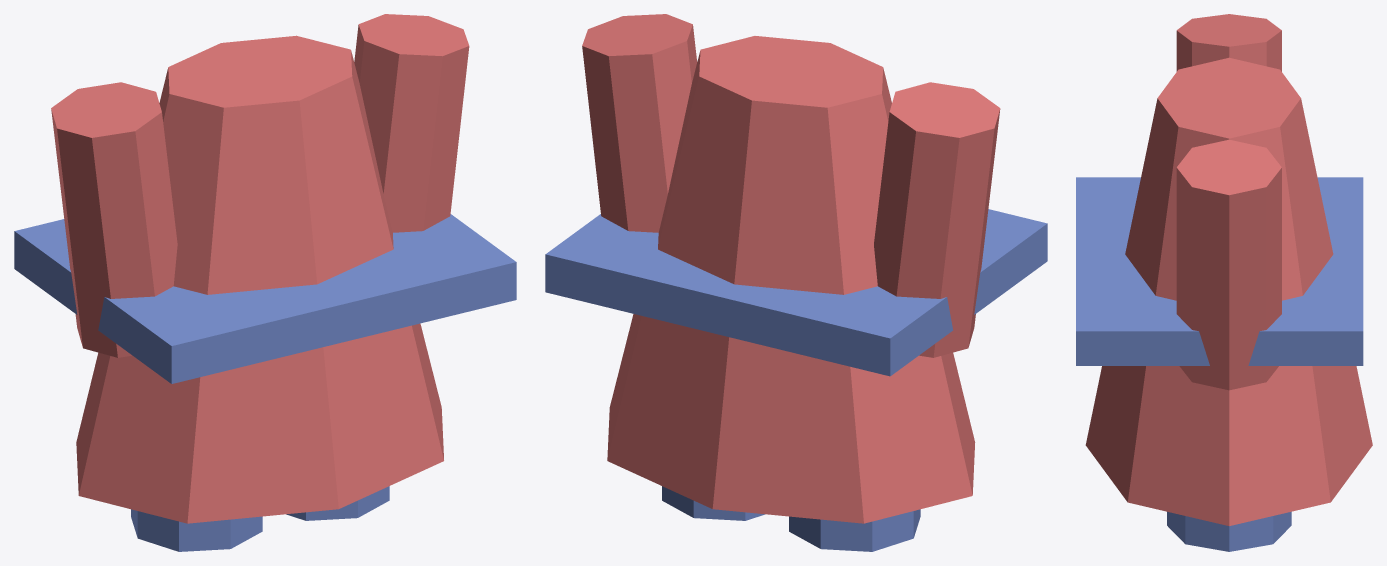
File: regional_traditional.glb
The picture shows the model from 3 angles, left to right: view 1: azimuth 30°, elevation 25°; view 2: azimuth 150°, elevation 25°; view 3: azimuth 270°, elevation 25°; orthographic projection. The views are drawn at different scales.
Parts seen in each view (by area): view 1: robe, sash, sleeve, sleeve.001, pant, pant.001; view 2: robe, sash, sleeve, sleeve.001, pant, pant.001; view 3: robe, sash, sleeve.001, sleeve, pant.001.
Boxes of the visible parts, bbox=[...] form: robe: bbox=[76, 35, 443, 523]; sash: bbox=[14, 214, 516, 383]; sleeve: bbox=[51, 82, 177, 357]; sleeve.001: bbox=[354, 14, 469, 232]; pant: bbox=[131, 509, 262, 551]; pant.001: bbox=[286, 486, 389, 520]; robe: bbox=[607, 36, 975, 523]; sash: bbox=[545, 209, 1047, 376]; sleeve: bbox=[874, 82, 1000, 357]; sleeve.001: bbox=[582, 14, 697, 232]; pant: bbox=[789, 509, 920, 551]; pant.001: bbox=[662, 486, 764, 520]; robe: bbox=[1085, 57, 1372, 526]; sash: bbox=[1076, 177, 1363, 365]; sleeve.001: bbox=[1176, 139, 1281, 390]; sleeve: bbox=[1176, 14, 1281, 71]; pant.001: bbox=[1167, 511, 1291, 551].
Bounding box in the file's own units: 0.4479 × 0.4657 × 0.31.
